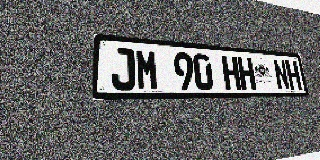0: (192, 53, 214, 90)
9: (173, 52, 195, 90)
H: (221, 55, 241, 90), (237, 57, 256, 90), (285, 60, 302, 90)
J: (111, 47, 136, 90)
M: (135, 49, 159, 90)
N: (273, 59, 290, 90)
